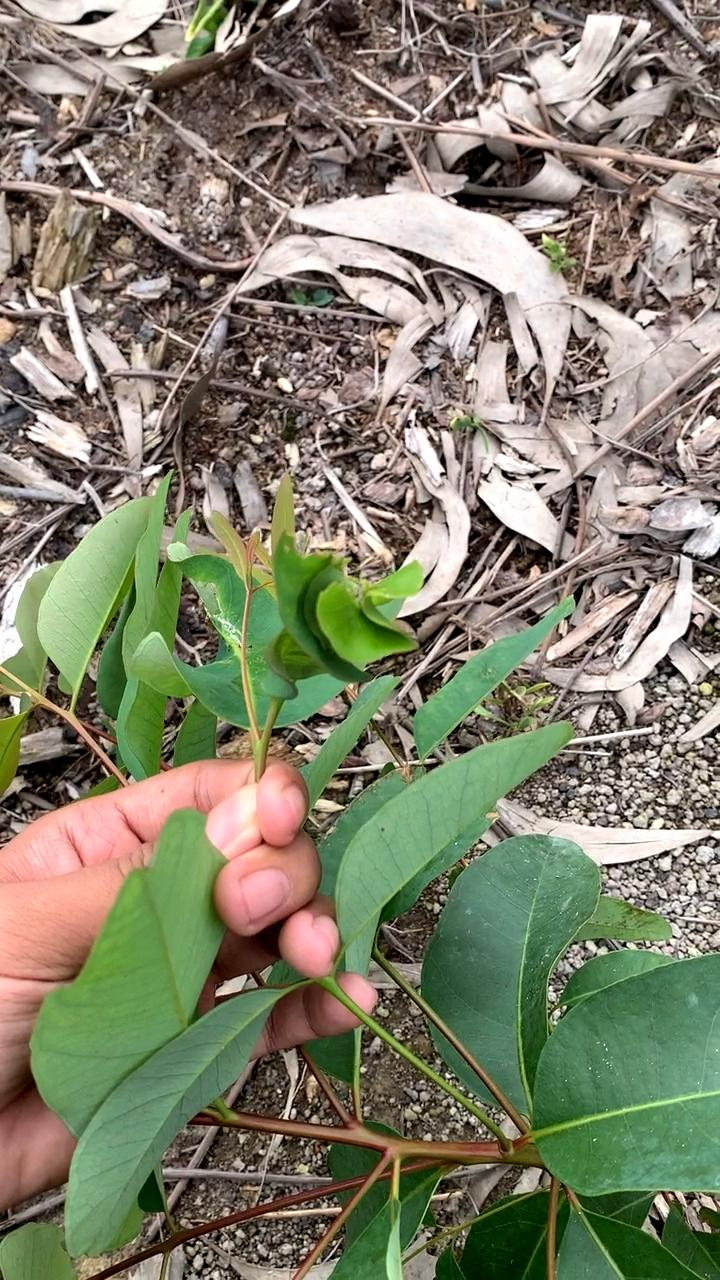Leaf Roller - Leaf: (260, 548, 431, 677)
